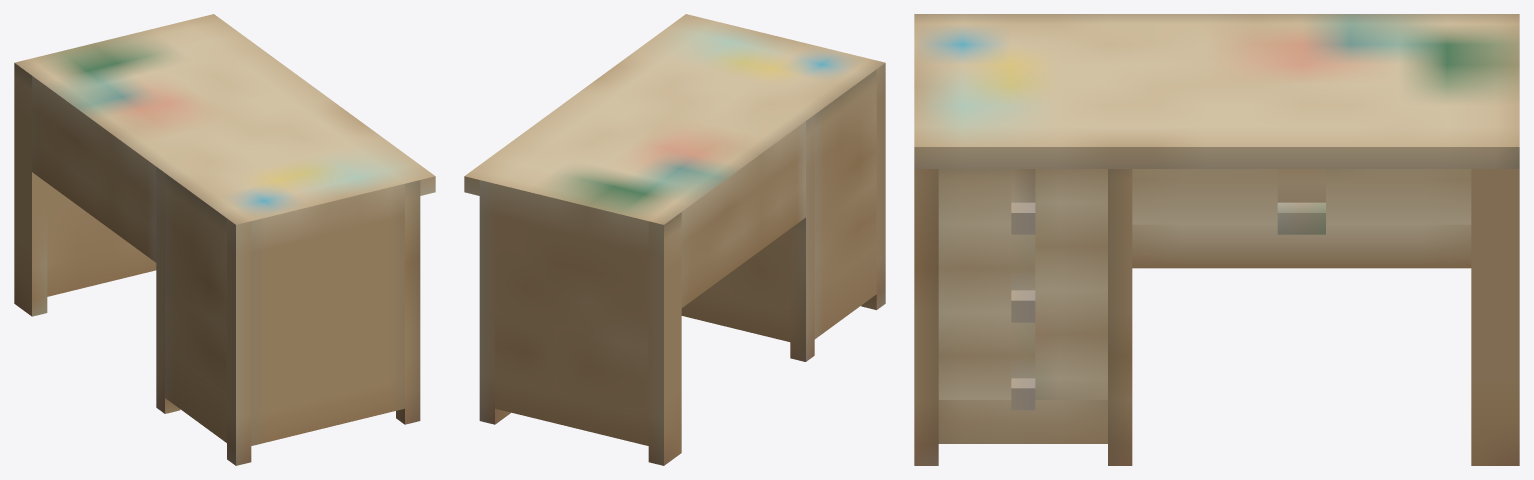
Rendered from TableCabinetBirch_00.fbx.
3 renders of one model, left to right at view 1: azimuth 30°, elevation 25°; view 2: azimuth 150°, elevation 25°; view 3: azimuth 270°, elevation 25°, orthographic. The views are drawn at different scales.
Visible parts, largest first — view 1: TableCabinetBirch_00; view 2: TableCabinetBirch_00; view 3: TableCabinetBirch_00.
Part boxes in pixels (<box>): TableCabinetBirch_00: <box>14,14,435,465</box>; TableCabinetBirch_00: <box>464,14,885,465</box>; TableCabinetBirch_00: <box>914,14,1519,465</box>.
Bounding box in the file's own units: 65 × 125 × 75.
1 material, 1 textured.
